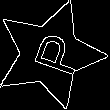P_W: (18, 28, 82, 81)
